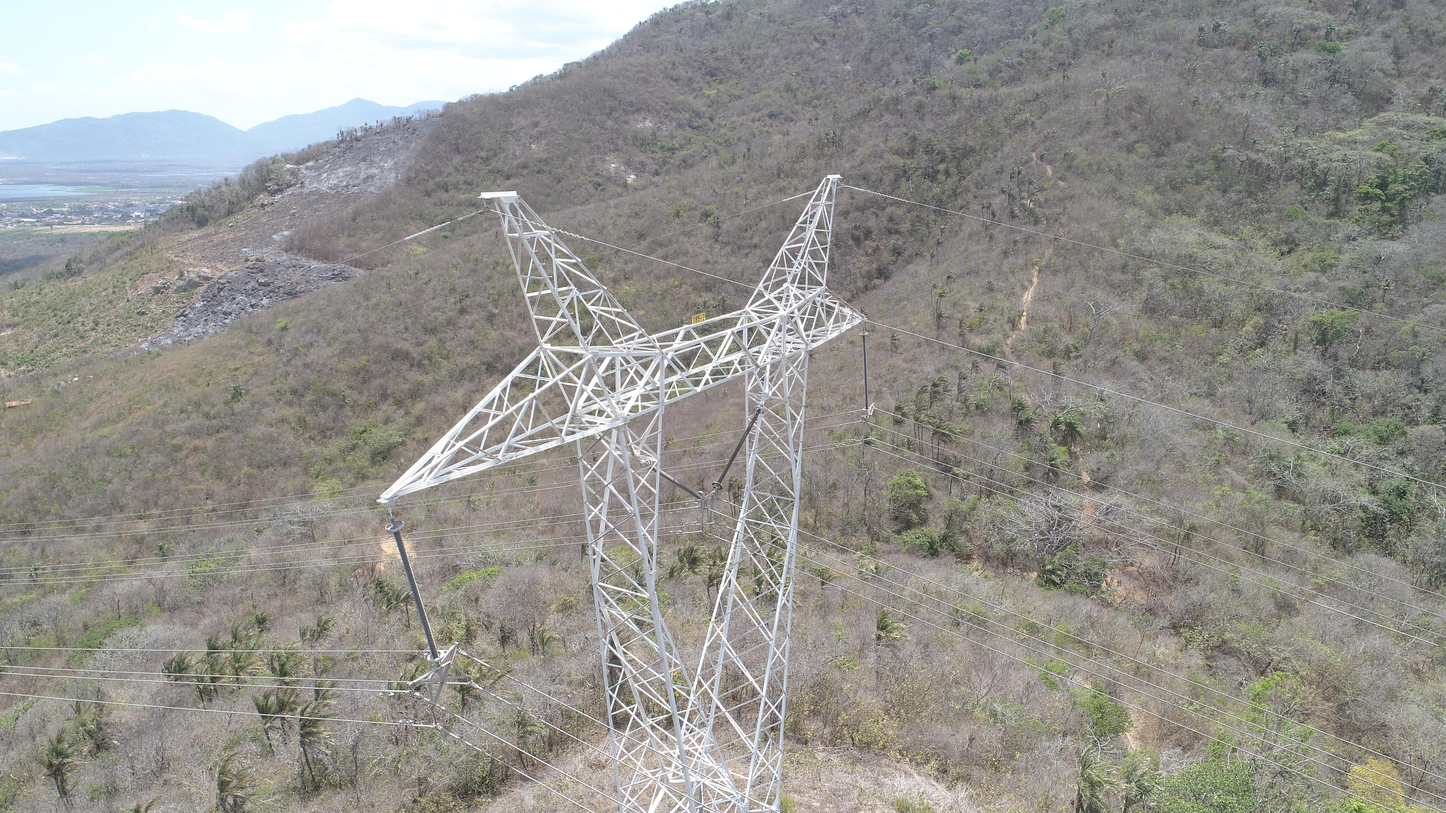power_tower: (374, 173, 873, 812), (379, 519, 441, 659), (710, 399, 768, 493), (645, 465, 705, 504), (857, 331, 877, 416)
